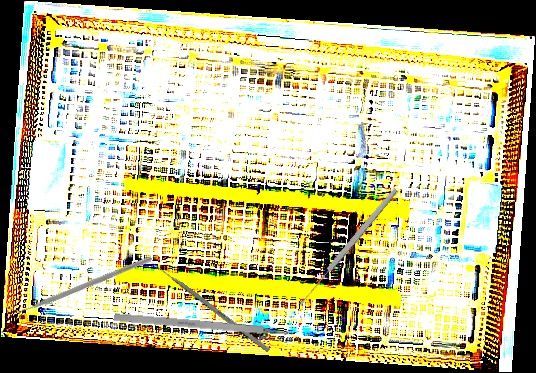Chopper: (5, 205, 154, 361)
Hook Surgical: (113, 313, 298, 337)
Pusher: (147, 258, 271, 353)
Surgical Spoon: (296, 186, 400, 308)
